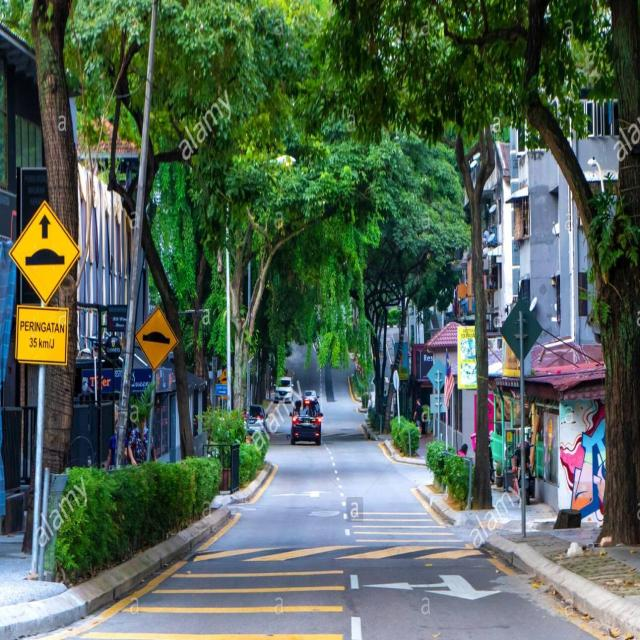Clean road: (4, 428, 640, 640)
